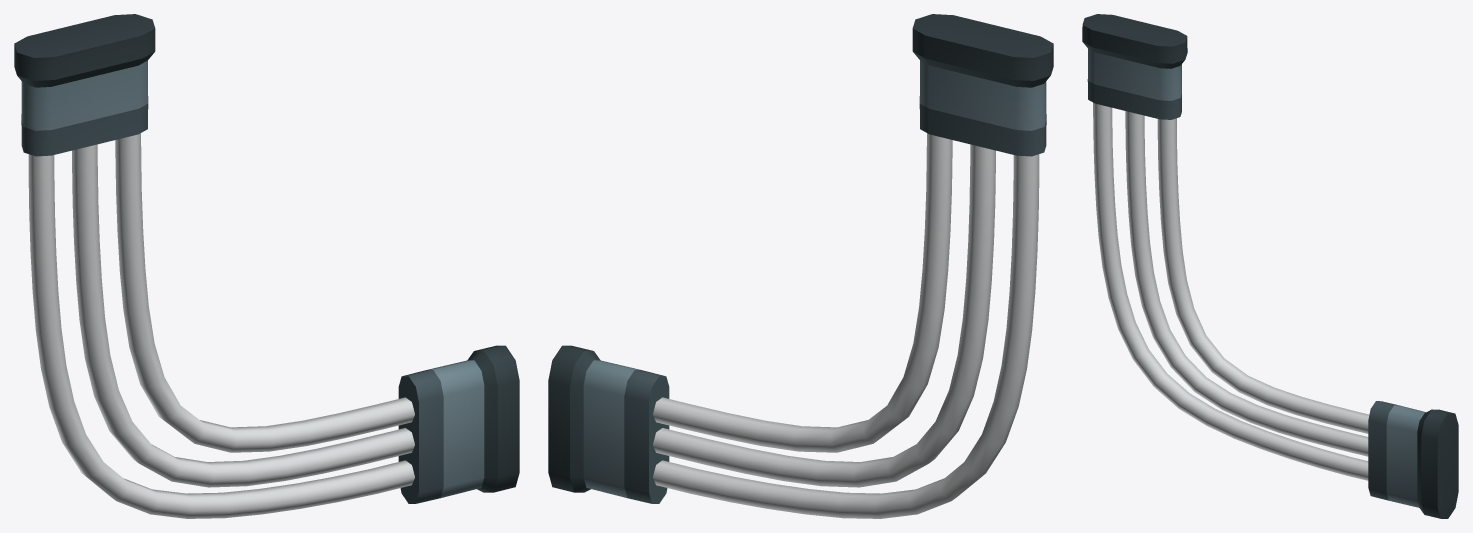
File: Cable_type_B_005.fbx
3 views of the same model, side by side, from view 1: azimuth 30°, elevation 25°; view 2: azimuth 150°, elevation 25°; view 3: azimuth 330°, elevation 25° (orthographic). The views are drawn at different scales.
Parts seen in each view (by area): view 1: Cable_type_B_005; view 2: Cable_type_B_005; view 3: Cable_type_B_005.
Part boxes in pixels (box(x1,y1,x2,y2)): Cable_type_B_005: box(14, 14, 519, 518); Cable_type_B_005: box(548, 14, 1053, 518); Cable_type_B_005: box(1082, 14, 1458, 518).
Size of the model in its own units: 79.2 by 7.83 by 85.77.
